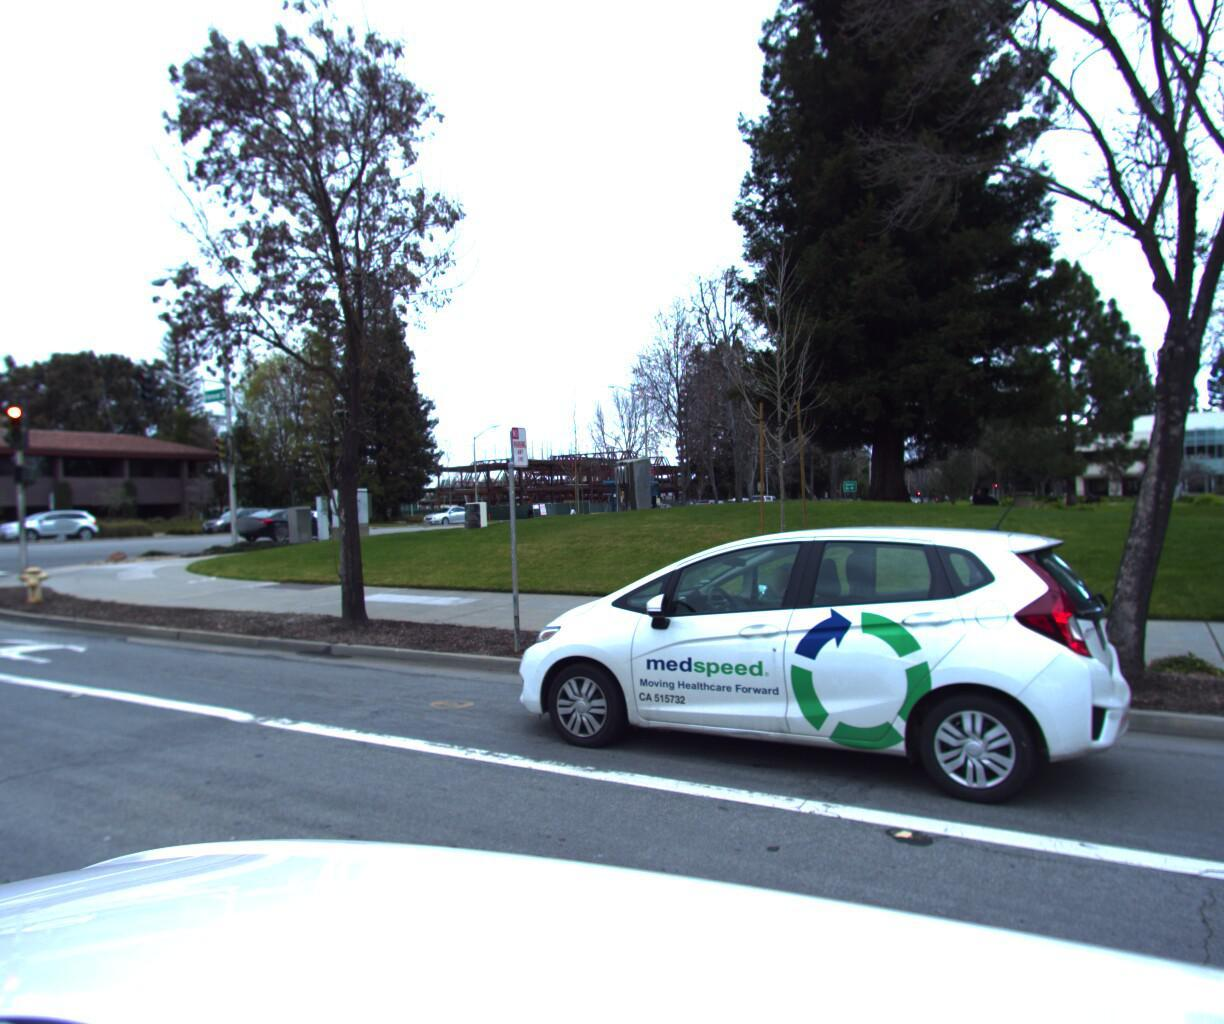car: (490, 514, 1149, 846), (235, 504, 341, 542), (195, 506, 281, 536), (421, 504, 480, 525), (694, 496, 735, 514)
